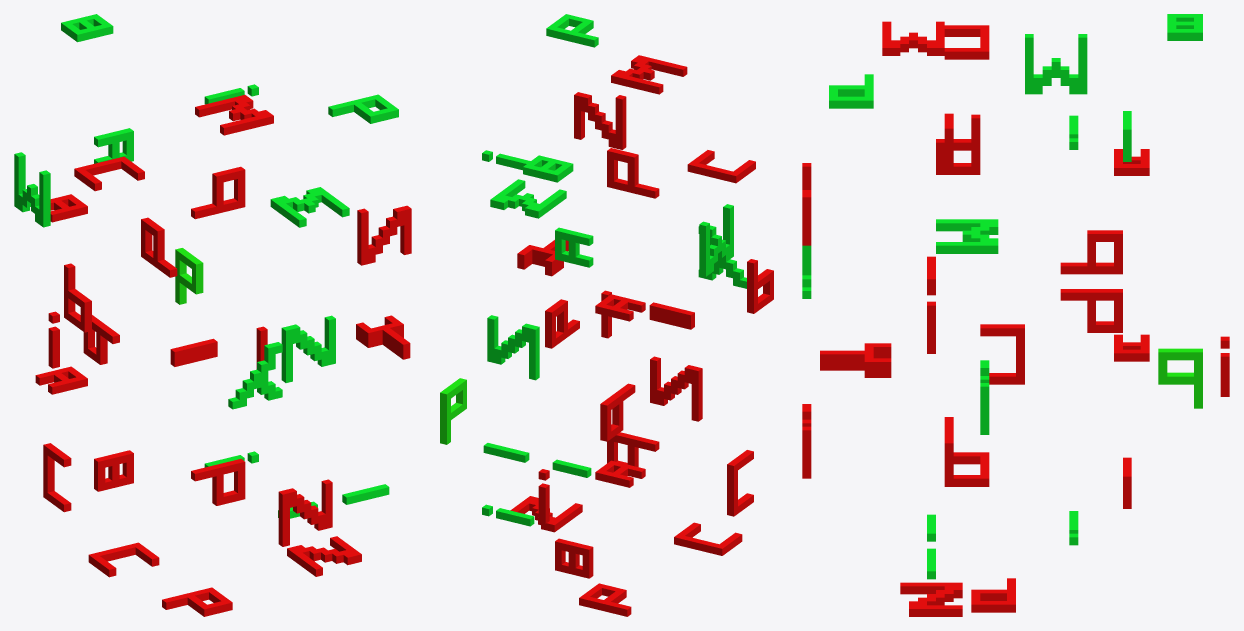
Rendered from CodeRed-2.obj.
3 renders of one model, left to right at view 1: azimuth 30°, elevation 25°; view 2: azimuth 150°, elevation 25°; view 3: azimuth 270°, elevation 25°, orthographic. The views are drawn at different scales.
Size of the model in its own units: 4.2 by 7 by 4.8.
Materials: 1 (1 with a texture image).
